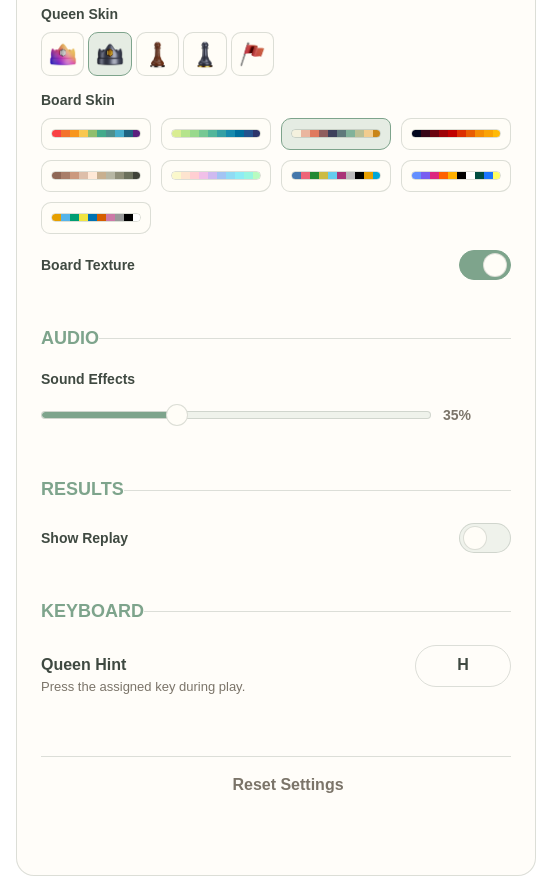
Scenario: SettingView › resets settings to defaults
(page scrolled)
Click the button with aria-label "Reset settings". click: (276, 786)
box: [41, 765, 511, 807]
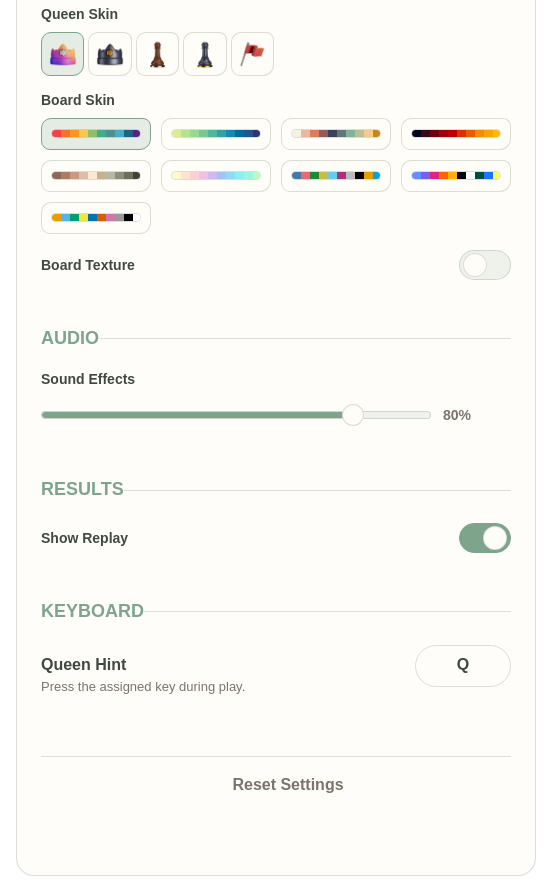
expect the text "80%" is shown: met, box [443, 407, 471, 423]
